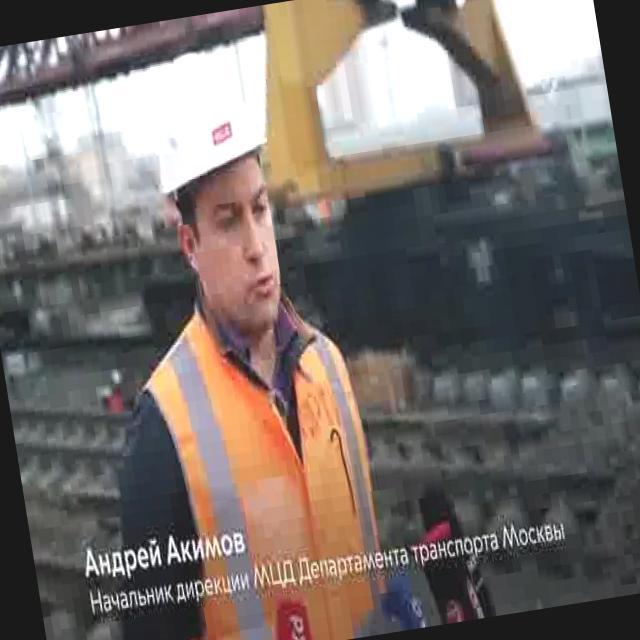helmet: (140, 49, 274, 202)
vest: (113, 271, 396, 640)
